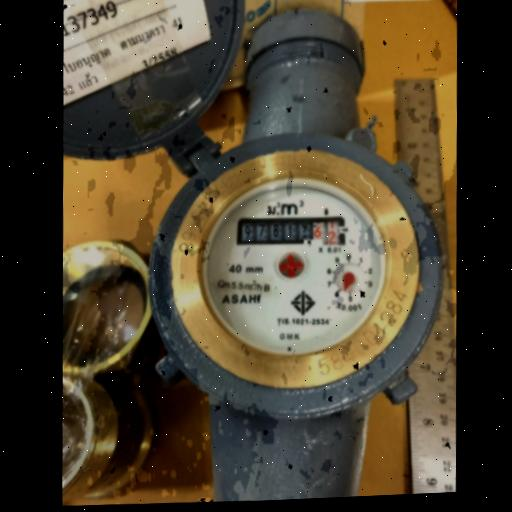1: (284, 221, 297, 240)
2: (328, 222, 338, 244)
6: (313, 221, 324, 239)
7: (257, 222, 268, 241)
8: (270, 222, 281, 241)
9: (241, 223, 254, 241), (299, 221, 310, 240)
border_water_meter_number: (237, 214, 346, 250)
